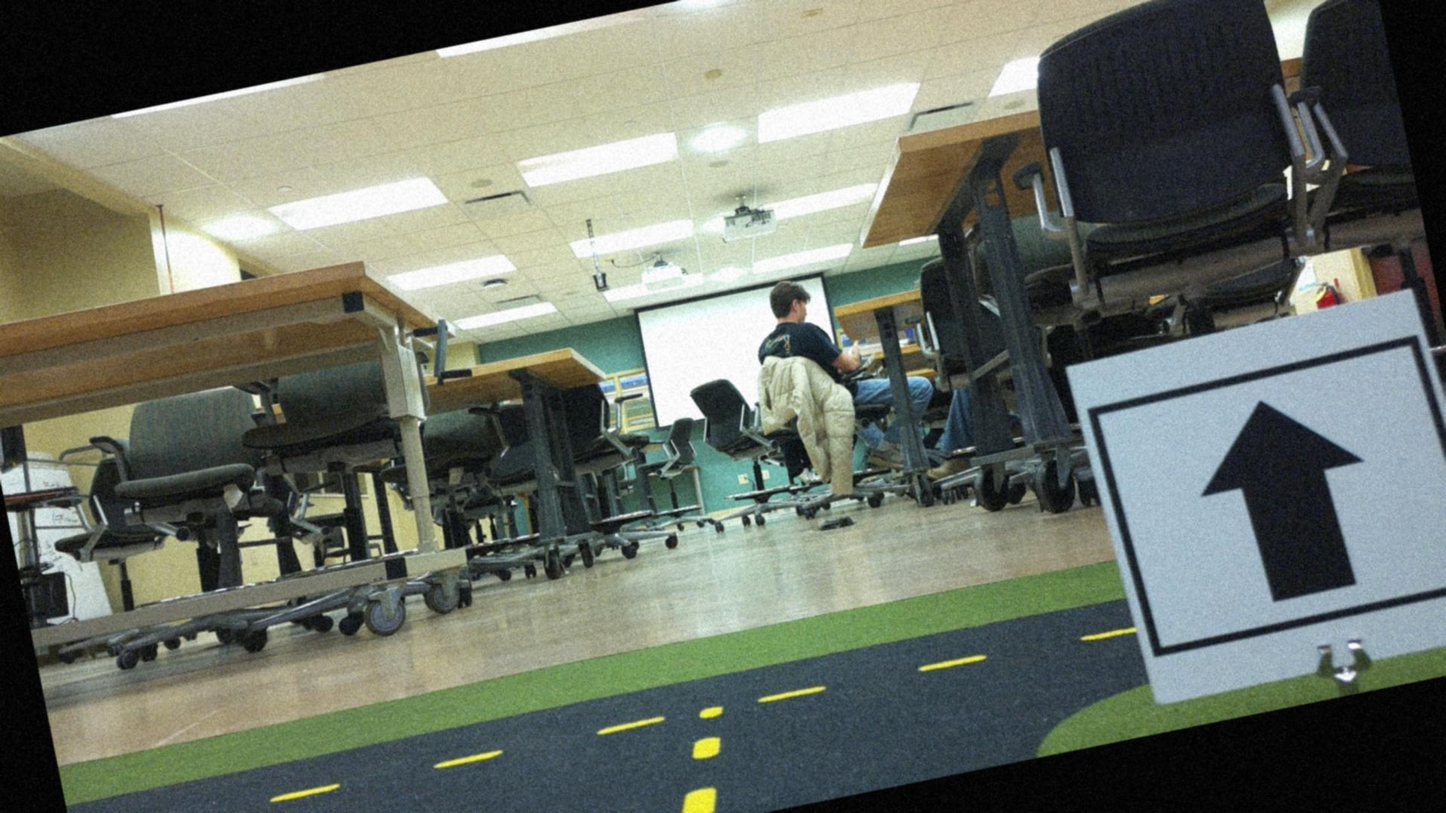gostraight: (1075, 282, 1445, 711)
yellowline: (78, 619, 1132, 812), (661, 701, 739, 812)
